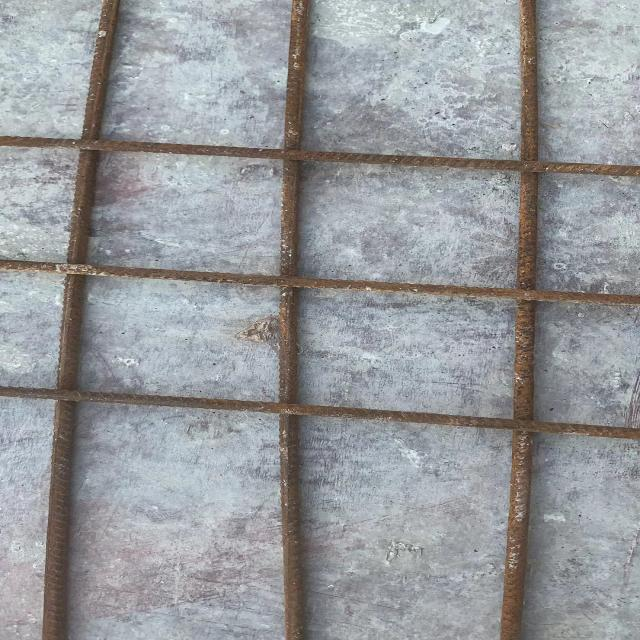ribbed bar: (36, 0, 126, 639), (1, 384, 640, 442), (1, 258, 640, 308), (496, 0, 545, 639), (1, 133, 640, 177), (278, 0, 315, 639)
